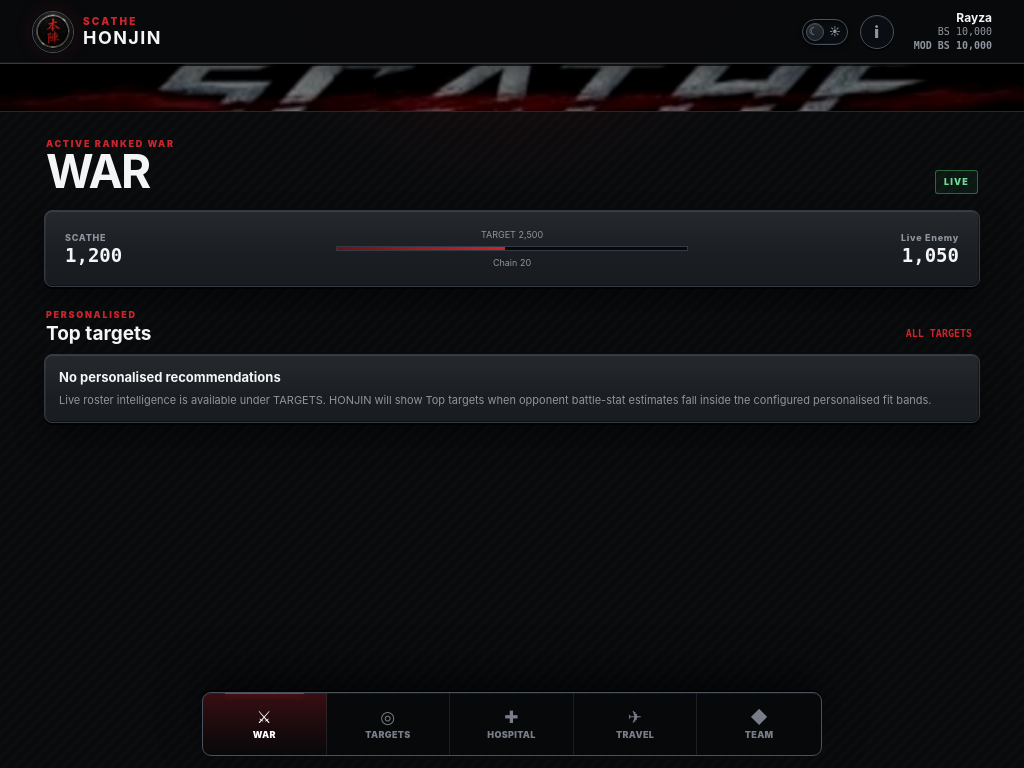
live HONJIN shell › loads the SCATHE roster only when TEAM becomes visible
Expected: the text "Live Enemy" is shown, [901,232,959,243]
Click the button "◆ TEAM": (759, 724) [697,693,821,755]
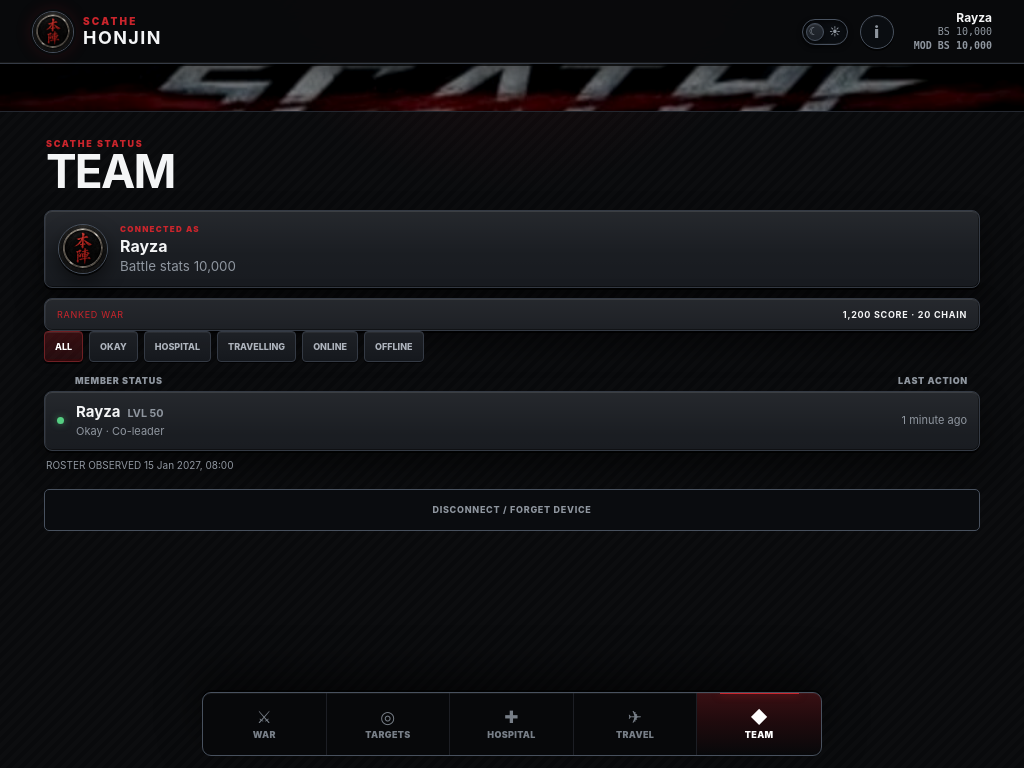
Expected: the button with aria-label "Player details for Rayza" is shown
Expected: the text "Okay · Co-leader" is shown, [76,424,164,438]
Expected: the text "1 minute ago" is shown, [902,413,967,428]
Click the button with aria-label "Player details for Rayza": (98, 411) [76,403,893,438]
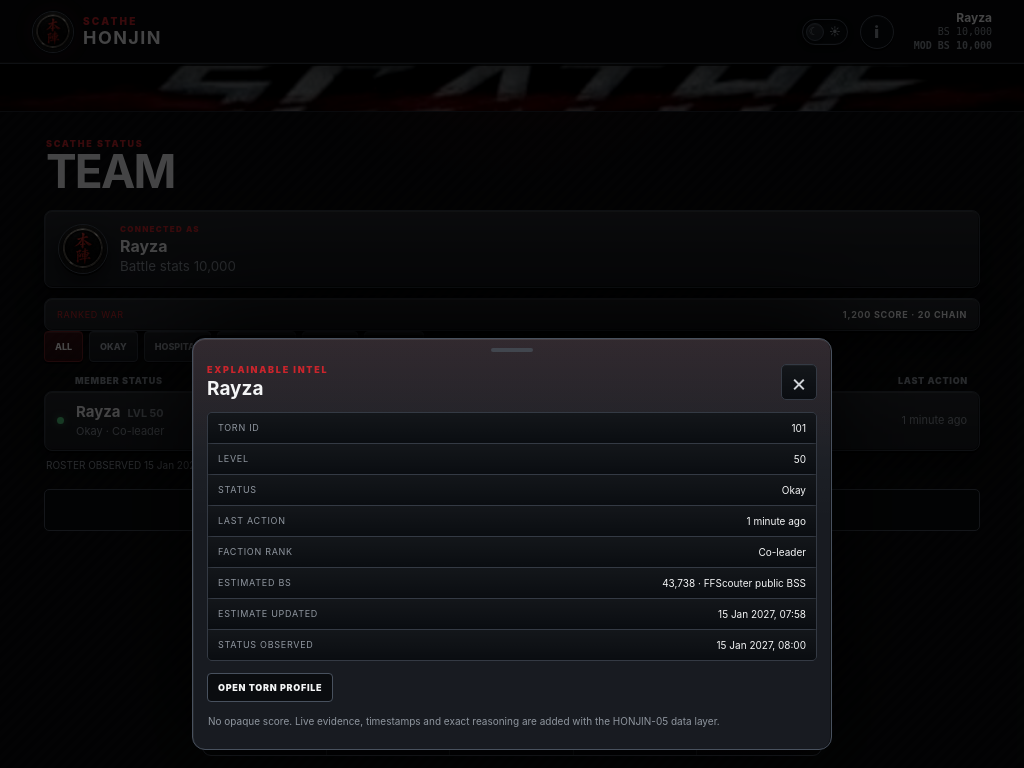
Expected: the text "101" is shown, [792,422,806,434]
Expected: the text "50" is shown, [794,453,806,465]
Expected: the text "1 minute ago" is shown, [746,515,806,527]
